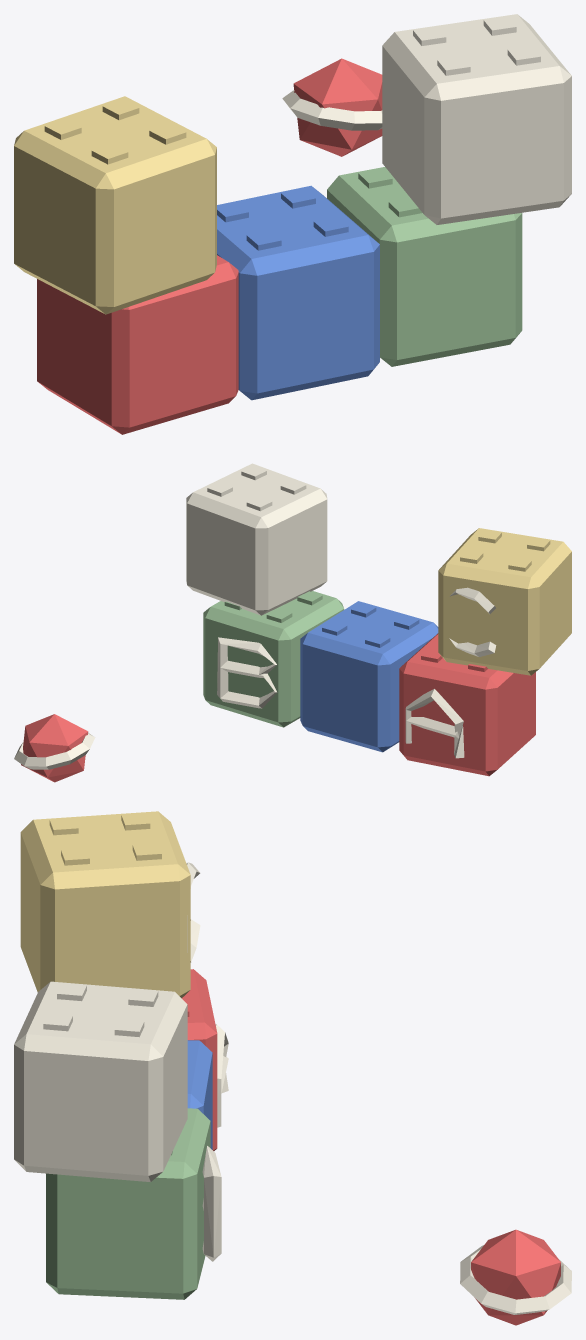
The model's file is Tick_Seat.fbx.
3 renders of one model, top to bottom at view 1: azimuth 30°, elevation 25°; view 2: azimuth 150°, elevation 25°; view 3: azimuth 270°, elevation 25°, orthographic. The views are drawn at different scales.
Parts seen in each view (by area): view 1: TickSeat_BlockYellow_BlockYellow, TickSeat_BlockCream_Cream, TickSeat_BlockBlue_Blue, TickSeat_BlockRed_Red, TickSeat_BlockGreen_BlockGreen, TickSeat_Ball_Red, TickSeat_BallBand_Cream; view 2: TickSeat_BlockCream_Cream, TickSeat_BlockYellow_BlockYellow, TickSeat_BlockBlue_Blue, TickSeat_BlockRed_Red, TickSeat_BlockGreen_BlockGreen, TickSeat_Letters_Cream, TickSeat_Ball_Red, TickSeat_BallBand_Cream; view 3: TickSeat_BlockCream_Cream, TickSeat_BlockYellow_BlockYellow, TickSeat_BlockGreen_BlockGreen, TickSeat_Ball_Red, TickSeat_Letters_Cream, TickSeat_BlockRed_Red, TickSeat_BallBand_Cream, TickSeat_BlockBlue_Blue.
Part boxes in pixels (bbox=[...]): TickSeat_BlockYellow_BlockYellow: bbox=[14, 96, 216, 314]; TickSeat_BlockCream_Cream: bbox=[382, 14, 571, 224]; TickSeat_BlockBlue_Blue: bbox=[217, 185, 379, 400]; TickSeat_BlockRed_Red: bbox=[37, 255, 238, 434]; TickSeat_BlockGreen_BlockGreen: bbox=[327, 167, 522, 366]; TickSeat_Ball_Red: bbox=[293, 58, 382, 156]; TickSeat_BallBand_Cream: bbox=[282, 90, 382, 130]; TickSeat_BlockCream_Cream: bbox=[186, 463, 327, 615]; TickSeat_BlockYellow_BlockYellow: bbox=[438, 528, 571, 675]; TickSeat_BlockBlue_Blue: bbox=[300, 601, 438, 752]; TickSeat_BlockRed_Red: bbox=[399, 633, 535, 776]; TickSeat_BlockGreen_BlockGreen: bbox=[203, 591, 344, 727]; TickSeat_Letters_Cream: bbox=[217, 587, 496, 758]; TickSeat_Ball_Red: bbox=[21, 714, 88, 782]; TickSeat_BallBand_Cream: bbox=[14, 732, 95, 769]; TickSeat_BlockCream_Cream: bbox=[14, 981, 187, 1181]; TickSeat_BlockYellow_BlockYellow: bbox=[20, 811, 190, 998]; TickSeat_BlockGreen_BlockGreen: bbox=[46, 1108, 210, 1299]; TickSeat_Ball_Red: bbox=[471, 1229, 560, 1325]; TickSeat_Letters_Cream: bbox=[186, 862, 228, 1261]; TickSeat_BlockRed_Red: bbox=[182, 969, 217, 1150]; TickSeat_BallBand_Cream: bbox=[460, 1245, 571, 1314]; TickSeat_BlockBlue_Blue: bbox=[187, 1040, 212, 1149].
Bounding box in the file's own units: 6.46 × 3.16 × 5.68.
